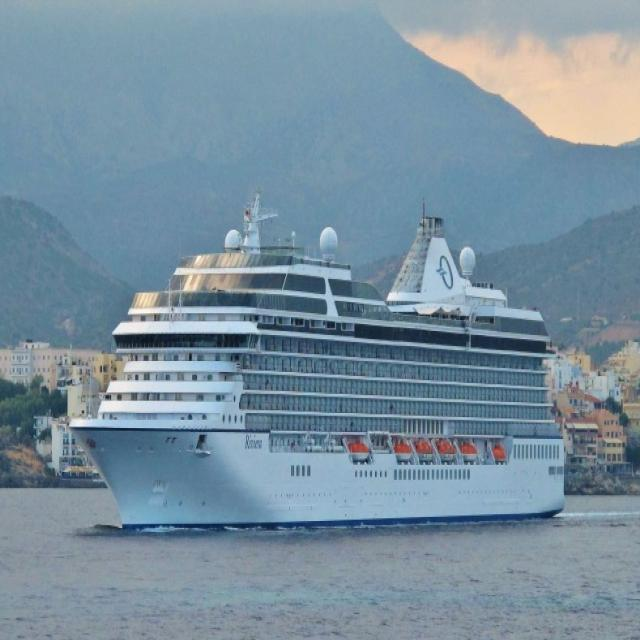cruises: (64, 184, 571, 540)
